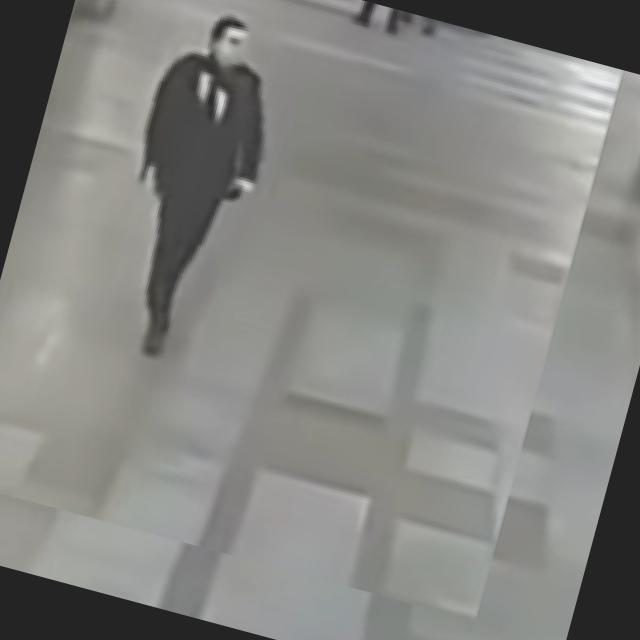person: (87, 0, 296, 369)
